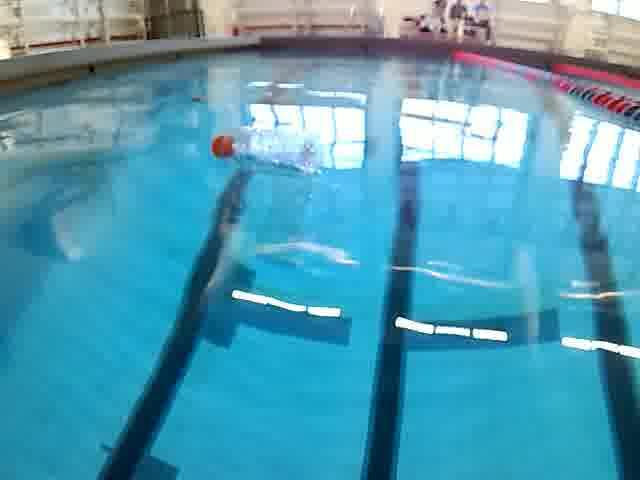Bottle: (205, 122, 328, 178)
